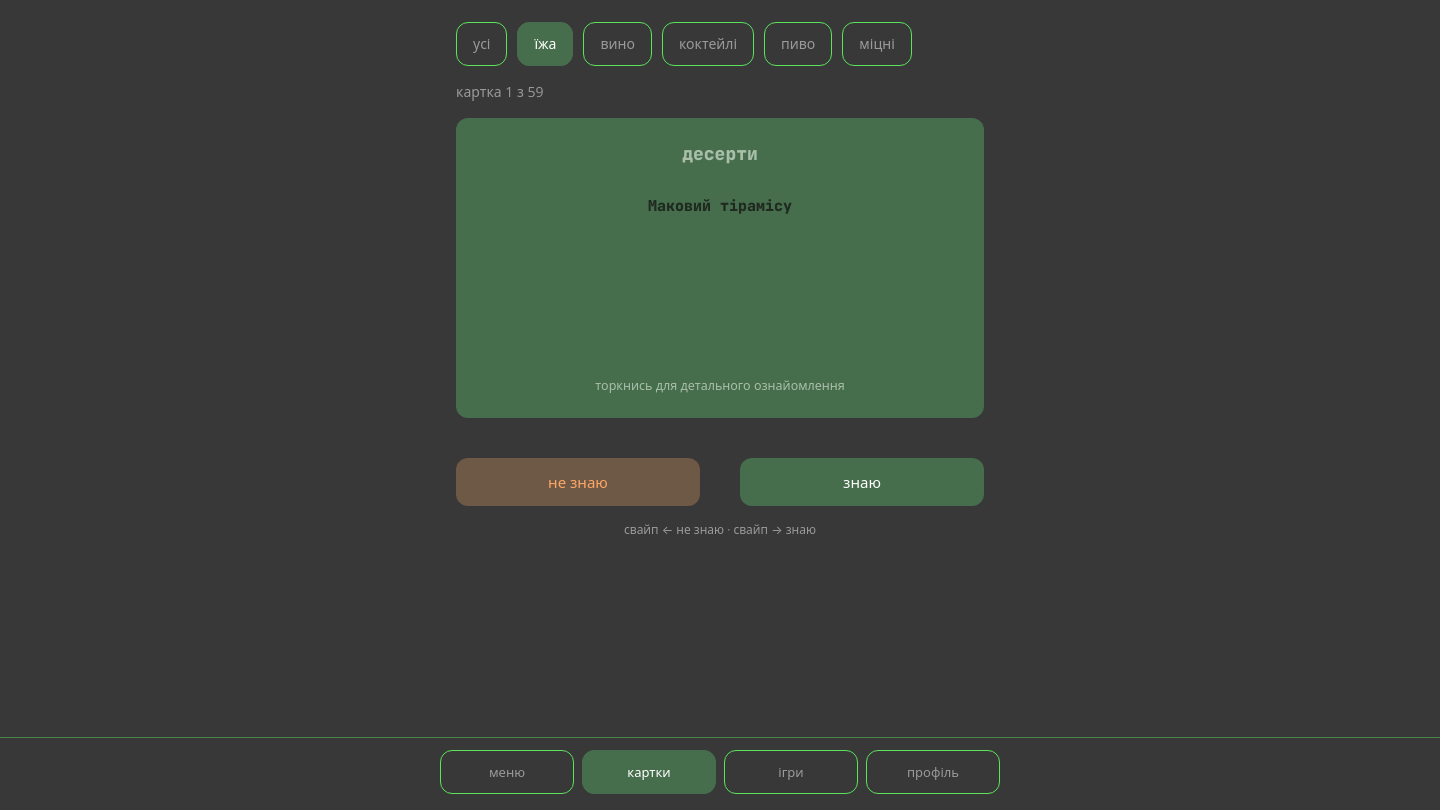
Scenario: CardsView (mobile) › announces a new achievement and a level-up
The width and height of the screenshot is (1440, 810).
Click the button "знаю".
click(862, 482)  # box [740,458,984,506]
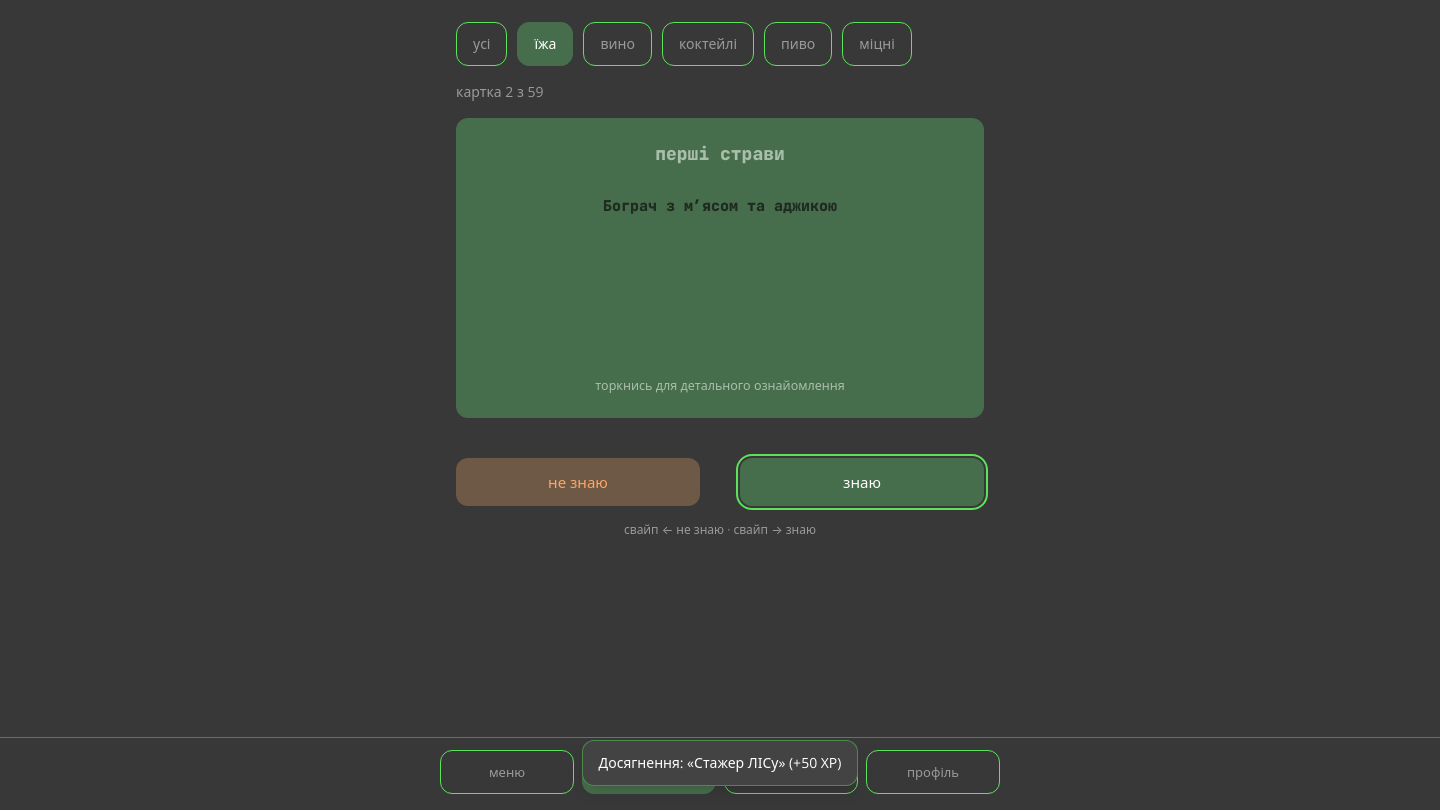
Expected: the message reads "Досягнення: «Стажер ЛІСу» (+50 XP)", [599,753,842,772]
